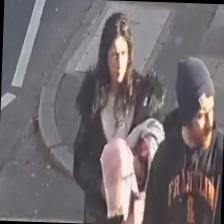person: (70, 10, 164, 224), (141, 54, 224, 224)
